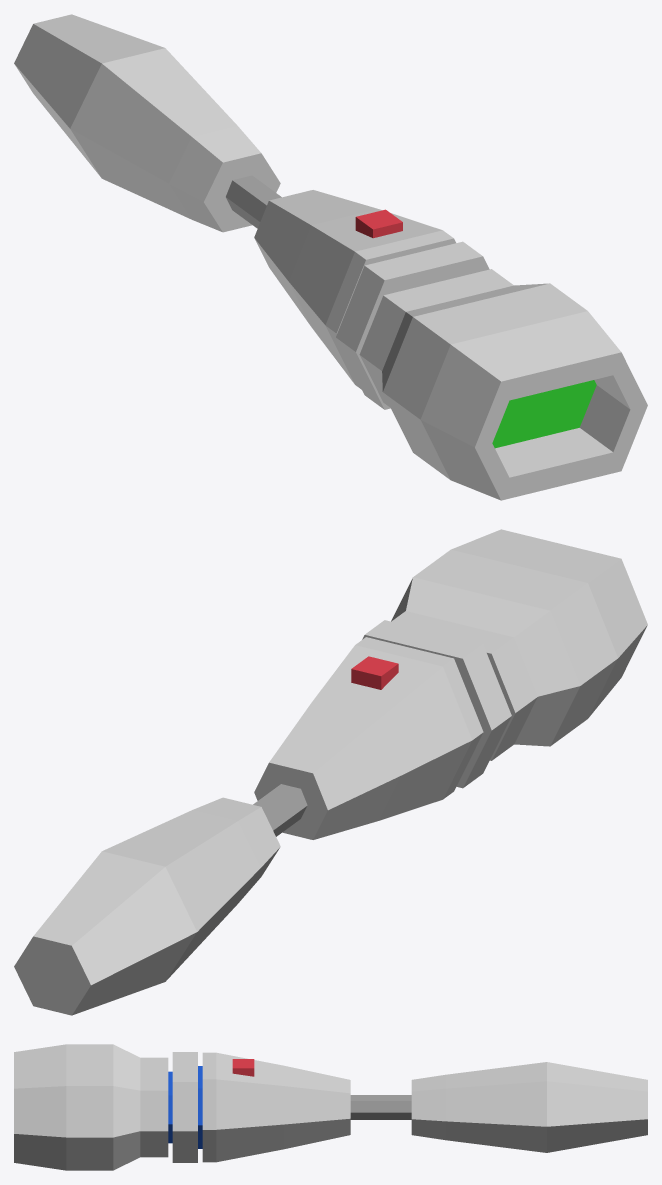
The model's file is PlayerModel.fbx.
3 renders of one model, top to bottom at view 1: azimuth 30°, elevation 25°; view 2: azimuth 150°, elevation 25°; view 3: azimuth 270°, elevation 25°, orthographic. The views are drawn at different scales.
Visible parts, largest first — view 1: Cylinder.012; view 2: Cylinder.012; view 3: Cylinder.012.
Boxes of the visible parts, x1,y1,x2,y2 form: Cylinder.012: (14, 14, 647, 500); Cylinder.012: (14, 529, 647, 1015); Cylinder.012: (14, 1044, 647, 1170).
Bounding box in the file's own units: 101 × 451 × 68.21.
